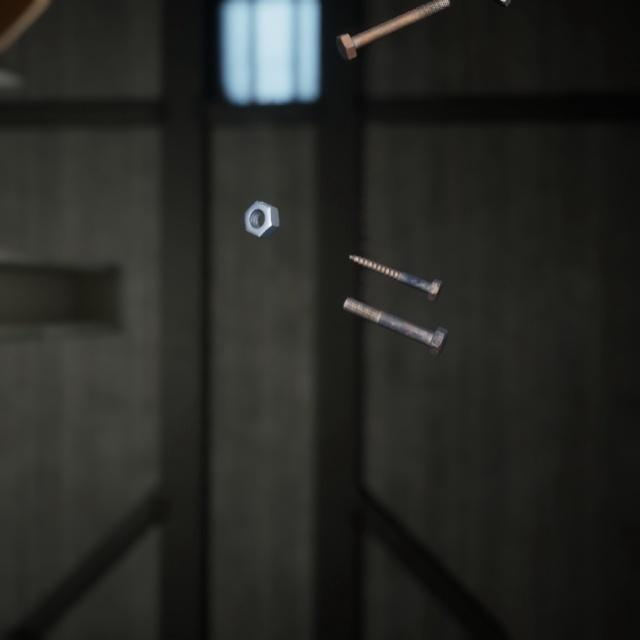bolt: (338, 275, 452, 344), (331, 0, 454, 57), (344, 234, 447, 290)
nut: (239, 180, 283, 227)
